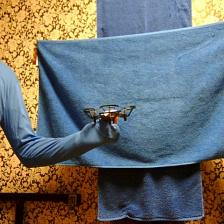drone: (84, 101, 136, 126)
